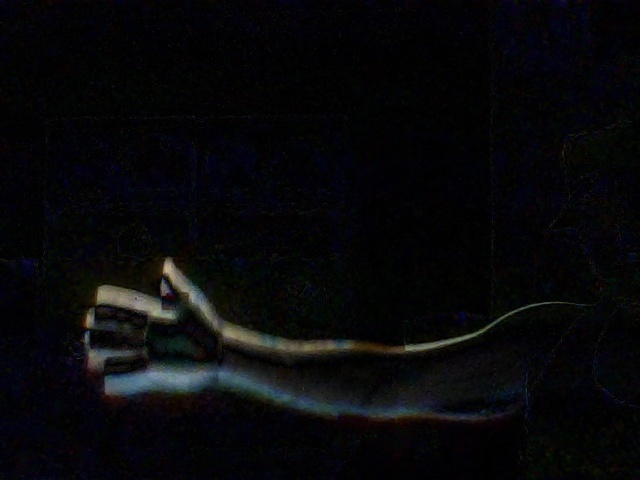hand_pa: (83, 240, 229, 414)
